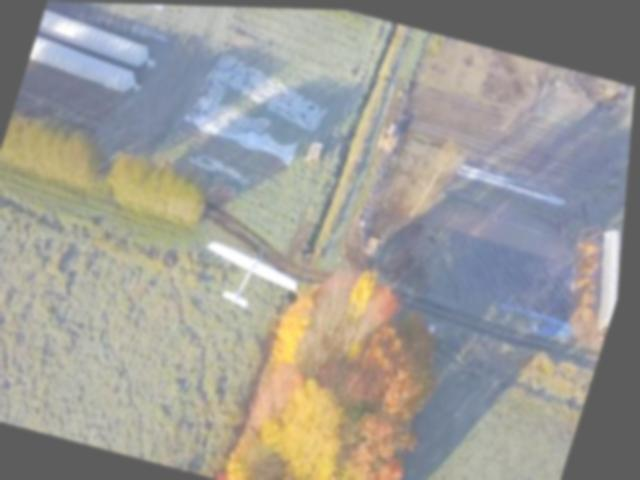uav: (185, 227, 325, 328)
